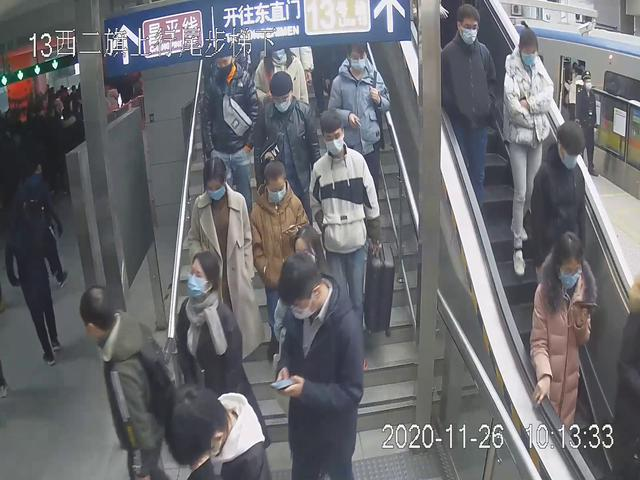person: (267, 251, 367, 480), (311, 108, 397, 357), (171, 252, 272, 451), (184, 158, 268, 379), (528, 227, 598, 458), (500, 18, 555, 282), (248, 156, 312, 373), (195, 42, 263, 231), (439, 1, 497, 215), (526, 112, 591, 301), (319, 34, 391, 203), (253, 71, 316, 220)
